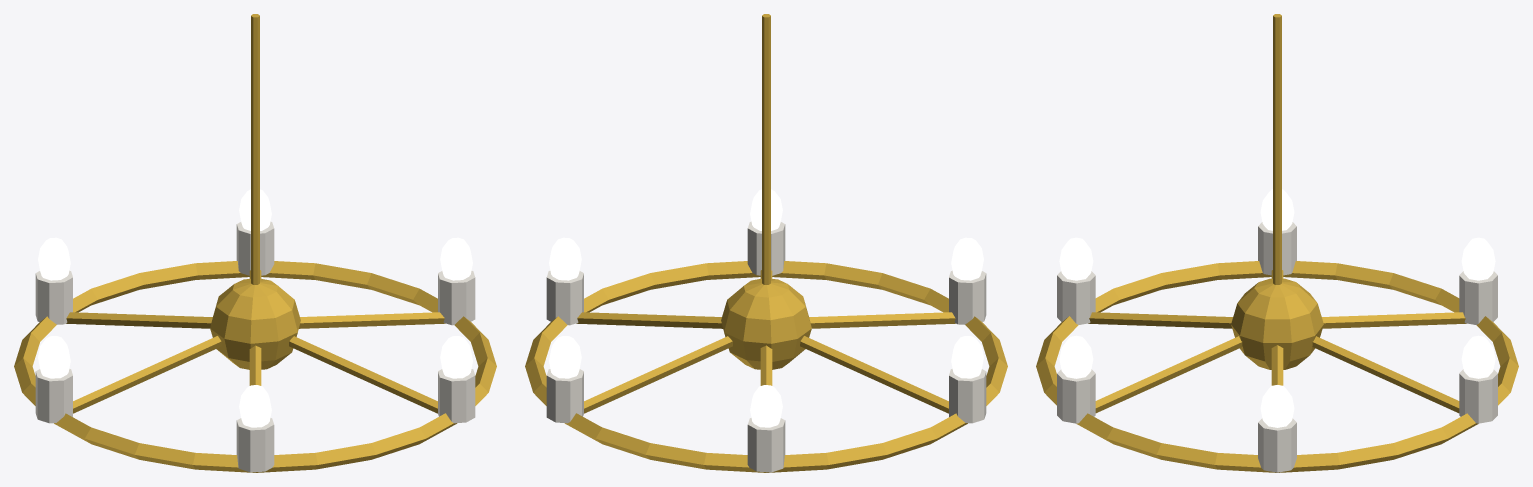
Rendered from chandelier.fbx.
3 views of the same model, side by side, from view 1: azimuth 30°, elevation 25°; view 2: azimuth 150°, elevation 25°; view 3: azimuth 270°, elevation 25° (orthographic).
Parts seen in each view (by area): view 1: chandelier, bulbs; view 2: chandelier, bulbs; view 3: chandelier, bulbs.
Part boxes in pixels (x1,y1,x2,y2): chandelier: [14, 14, 496, 472]; bulbs: [38, 189, 472, 427]; chandelier: [525, 14, 1007, 472]; bulbs: [549, 189, 983, 427]; chandelier: [1036, 14, 1518, 472]; bulbs: [1059, 189, 1495, 427].
Bounding box in the file's own units: 0.65 × 0.512 × 0.624.
